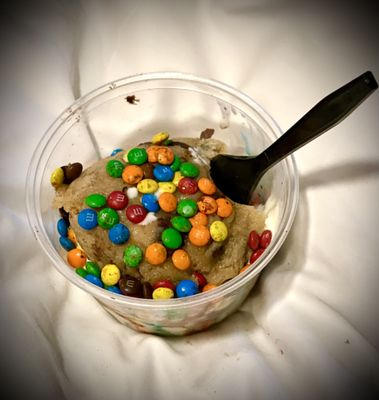salad: (208, 72, 379, 206)
sushi: (28, 71, 368, 364), (45, 66, 300, 337)
